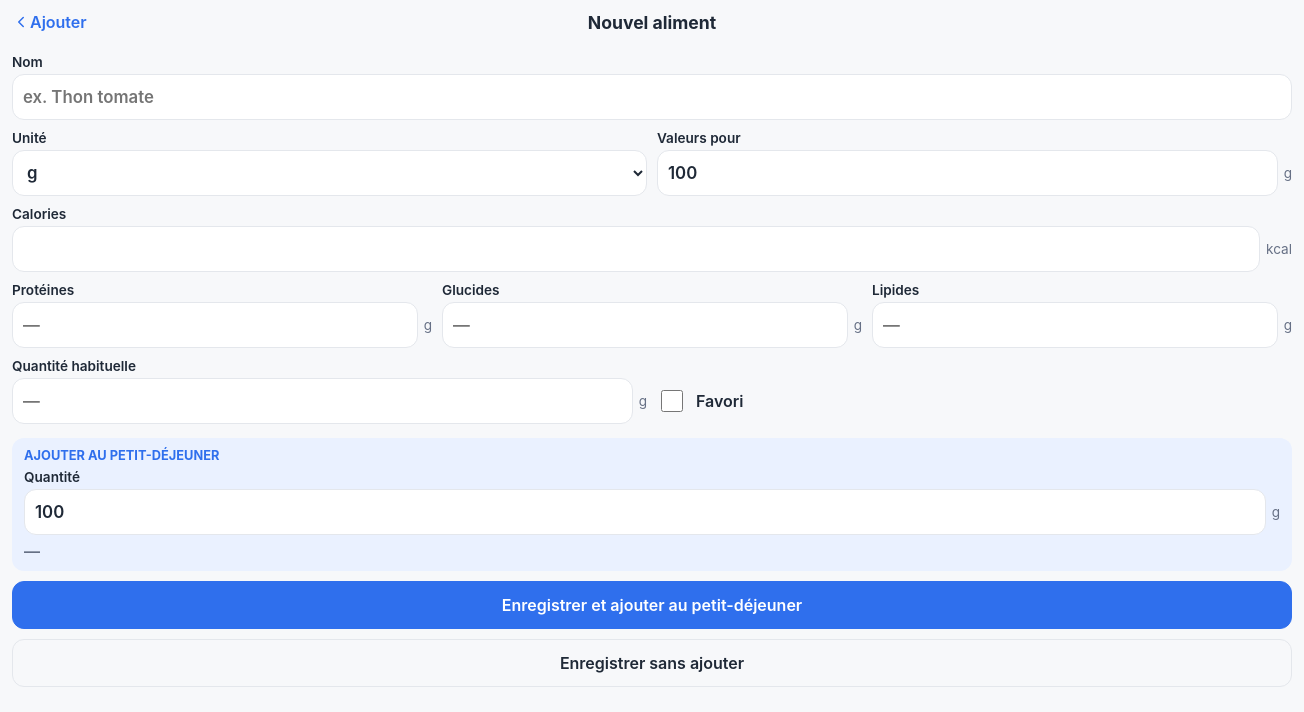
it: parcours réel : Thon tomate › quantité à ajouter : suit la quantité habituelle, puis plus du tout une fois modifiée à la main ; « Enregistrer sans ajouter »
Check: the heading "Nouvel aliment" is shown, box [588,12,716,32]
In the field labelled "Nom": (652, 97) [12,74,1292,120], type "Fromage blanc"
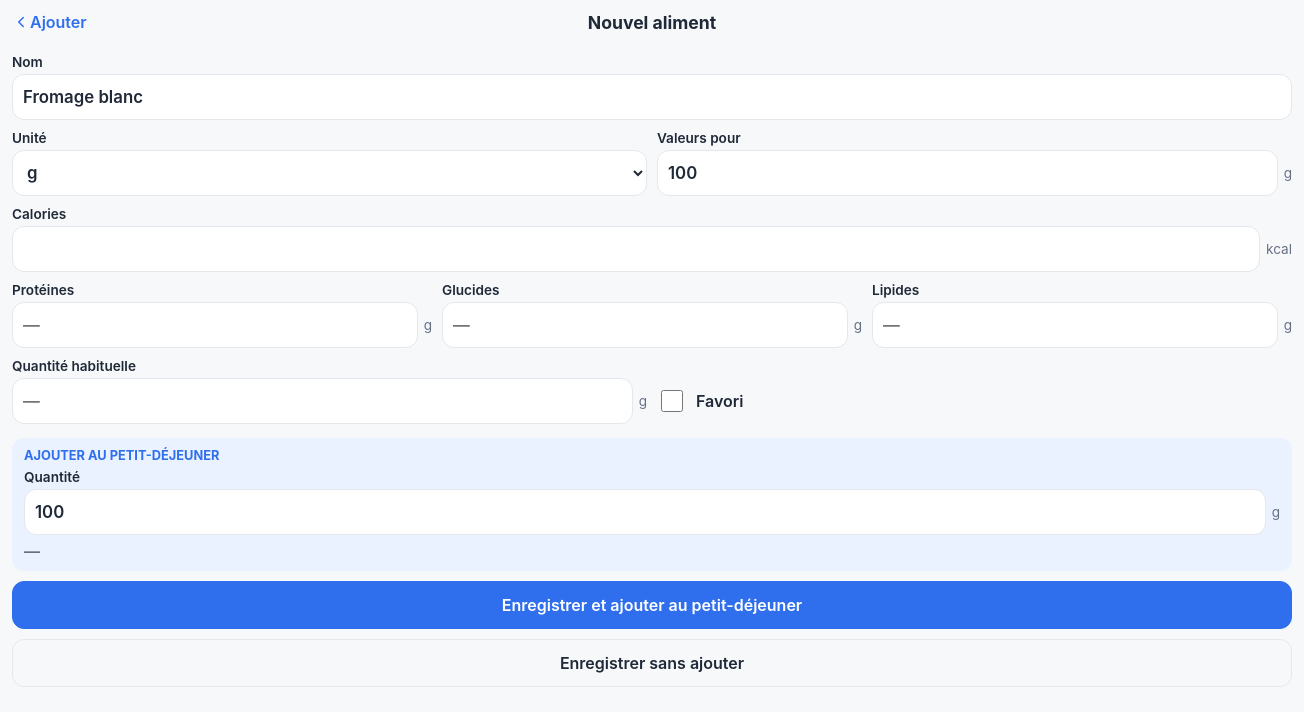
Check: the field labelled "Valeurs pour" holds "100", box [657,150,1278,196]
In the field named "Calories en kcal": (636, 249) [12,226,1260,272], type "46"
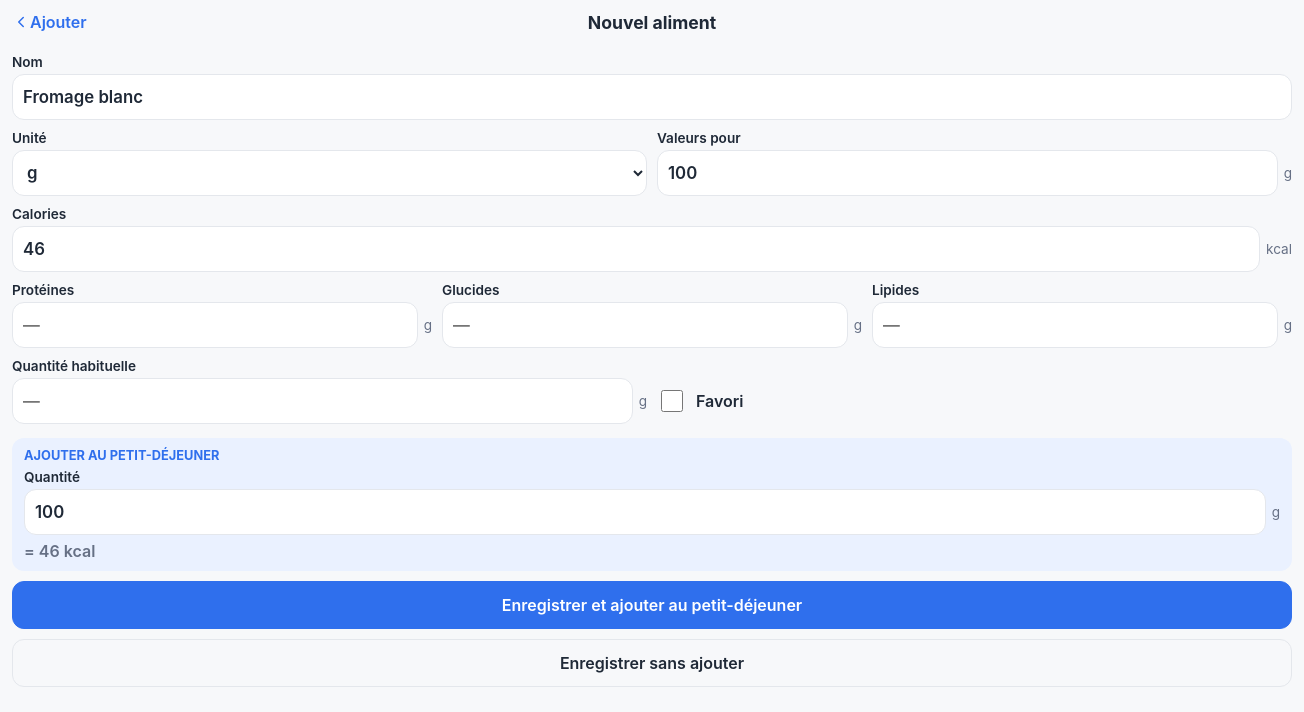
Check: the field named "Quantité à ajouter" holds "100", box [24,489,1266,535]
In the field named "Quantité habituelle (facultatif)": (322, 401) [12,378,633,424], type "250"
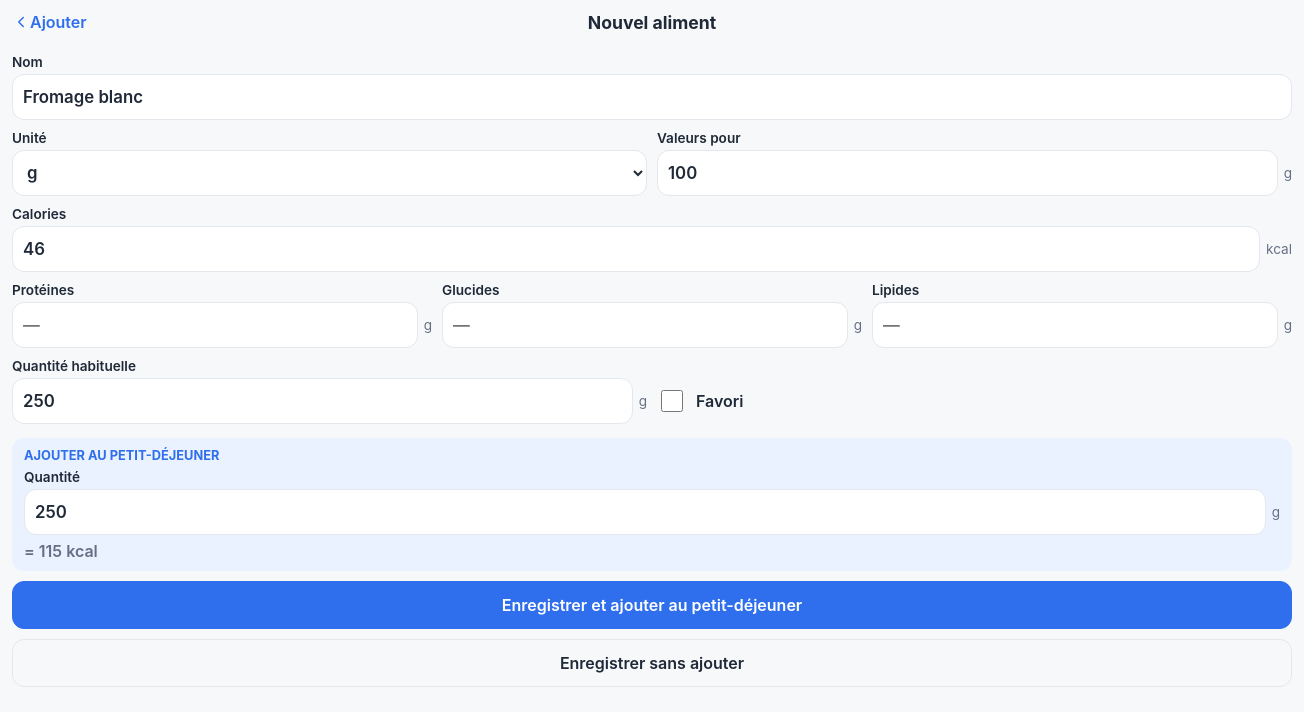
Check: the field named "Quantité à ajouter" holds "250"
Replace the text in the field named "Quantité à ajouter" with "150": (645, 512) [24,489,1266,535]
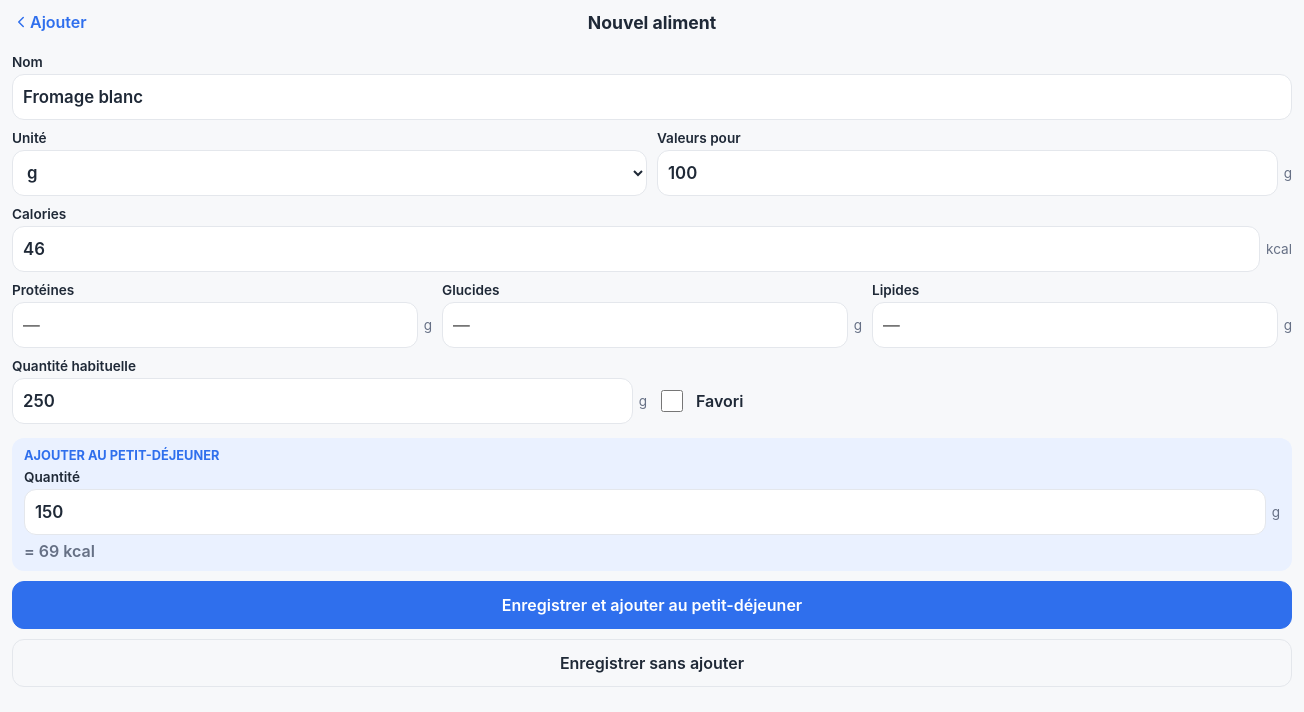
Replace the text in the field named "Quantité habituelle (facultatif)" with "200": (322, 401) [12,378,633,424]
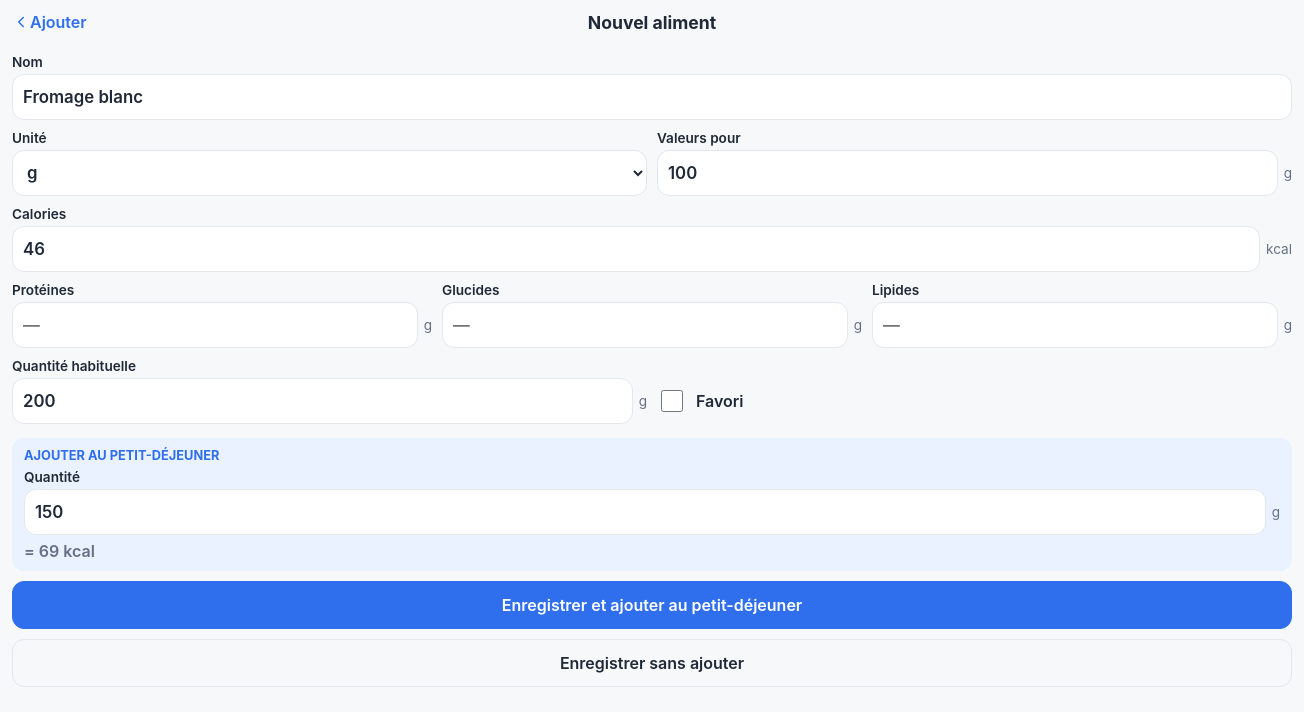
Click the button "Enregistrer sans ajouter": (652, 663) [12,639,1292,687]
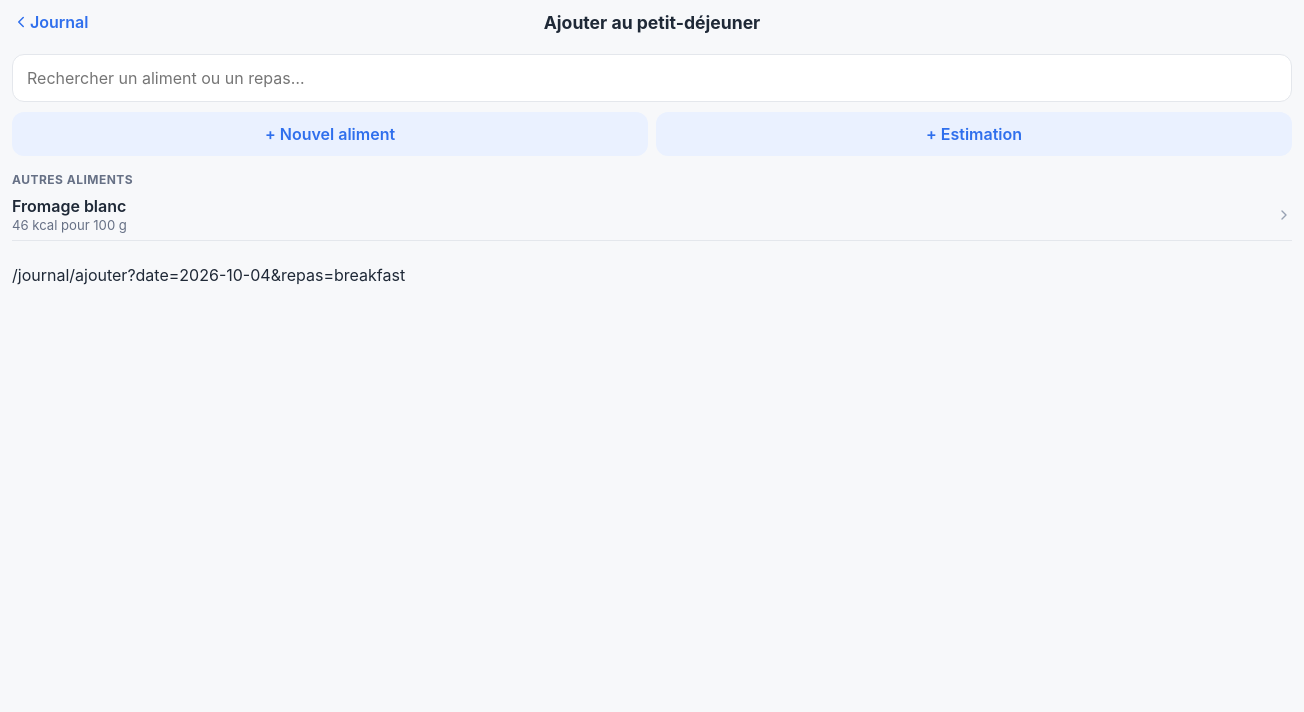
Check: the text with test id "url" reads "/journal/ajouter?date=2026-10-04&repas=breakfast", box [12,265,405,285]
